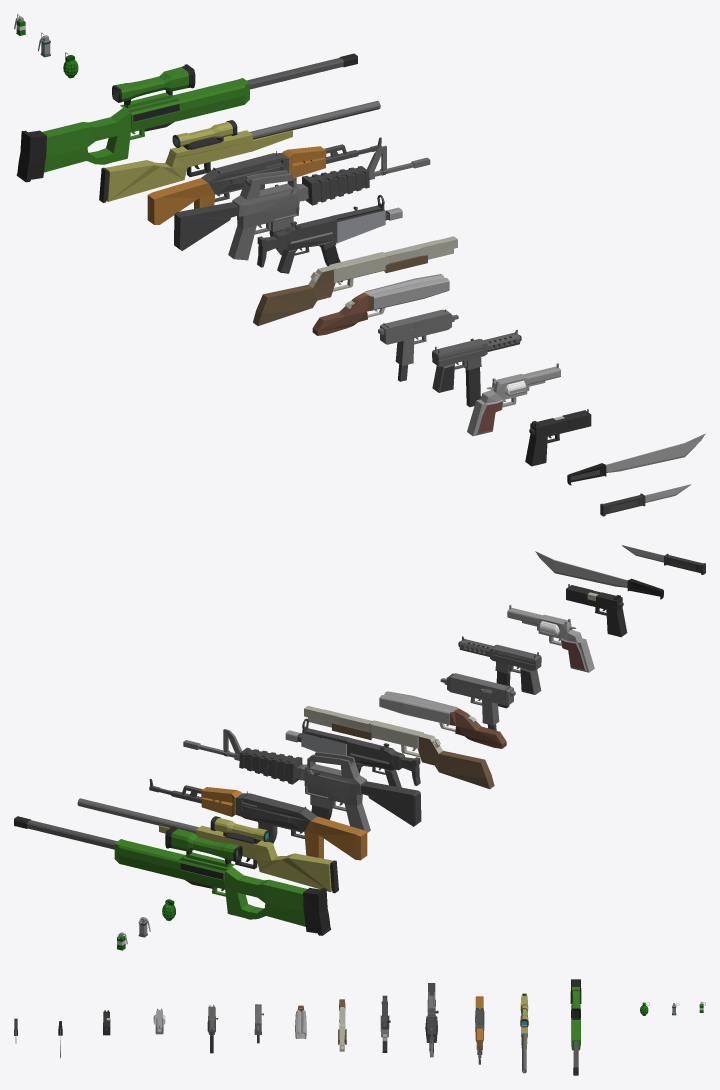
File: uploads_files_2553000_LOW_POLY_WEAPONS_PACK_COMPLETE.dae
3 renders of one model, top to bottom at view 1: azimuth 30°, elevation 25°; view 2: azimuth 150°, elevation 25°; view 3: azimuth 270°, elevation 25°, orthographic. The views are drawn at different scales.
Parts seen in each view (by area): view 1: AWM, M4_CARBINE, M24, AK_47, PUMP_ACTION_SHOTGUN, SMG, SAWN_OFF_SHOTGUN, TEC9, REVOLVER, UZI, HANDGUN, MACHETE (+1 smaller); view 2: AWM, M4_CARBINE, AK_47, M24, PUMP_ACTION_SHOTGUN, SMG, SAWN_OFF_SHOTGUN, TEC9, REVOLVER, UZI, HANDGUN, MACHETE (+1 smaller); view 3: AWM, M4_CARBINE, AK_47, M24, SMG, PUMP_ACTION_SHOTGUN, SAWN_OFF_SHOTGUN, TEC9, UZI, REVOLVER, HANDGUN.
Boxes of the visible parts, bbox=[...] form: AWM: bbox=[16, 53, 357, 182]; M4_CARBINE: bbox=[174, 145, 430, 260]; M24: bbox=[99, 100, 380, 202]; AK_47: bbox=[147, 137, 381, 224]; PUMP_ACTION_SHOTGUN: bbox=[253, 236, 457, 325]; SMG: bbox=[257, 194, 402, 282]; SAWN_OFF_SHOTGUN: bbox=[312, 274, 449, 335]; TEC9: bbox=[432, 329, 521, 407]; REVOLVER: bbox=[467, 363, 560, 436]; UZI: bbox=[378, 309, 458, 381]; HANDGUN: bbox=[525, 409, 591, 466]; MACHETE: bbox=[567, 433, 705, 485]; AWM: bbox=[14, 816, 331, 935]; M4_CARBINE: bbox=[183, 729, 421, 832]; AK_47: bbox=[149, 778, 367, 860]; M24: bbox=[77, 798, 338, 893]; PUMP_ACTION_SHOTGUN: bbox=[304, 706, 494, 789]; SMG: bbox=[285, 718, 420, 787]; SAWN_OFF_SHOTGUN: bbox=[379, 691, 506, 748]; TEC9: bbox=[458, 636, 541, 708]; REVOLVER: bbox=[507, 604, 594, 672]; UZI: bbox=[440, 673, 515, 730]; HANDGUN: bbox=[566, 584, 627, 637]; MACHETE: bbox=[535, 551, 663, 599]; AWM: bbox=[570, 979, 581, 1075]; M4_CARBINE: bbox=[425, 983, 438, 1057]; AK_47: bbox=[475, 996, 484, 1064]; M24: bbox=[520, 993, 528, 1073]; SMG: bbox=[380, 995, 390, 1052]; PUMP_ACTION_SHOTGUN: bbox=[338, 999, 346, 1051]; SAWN_OFF_SHOTGUN: bbox=[295, 1005, 306, 1038]; TEC9: bbox=[207, 1004, 218, 1053]; UZI: bbox=[254, 1004, 263, 1043]; REVOLVER: bbox=[153, 1008, 165, 1034]; HANDGUN: bbox=[103, 1010, 110, 1035].
Size of the model in its own units: 15.18 by 47.88 by 4.07.
